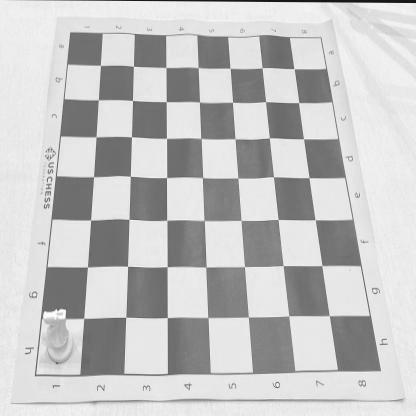white-knight: (42, 308, 75, 364)
